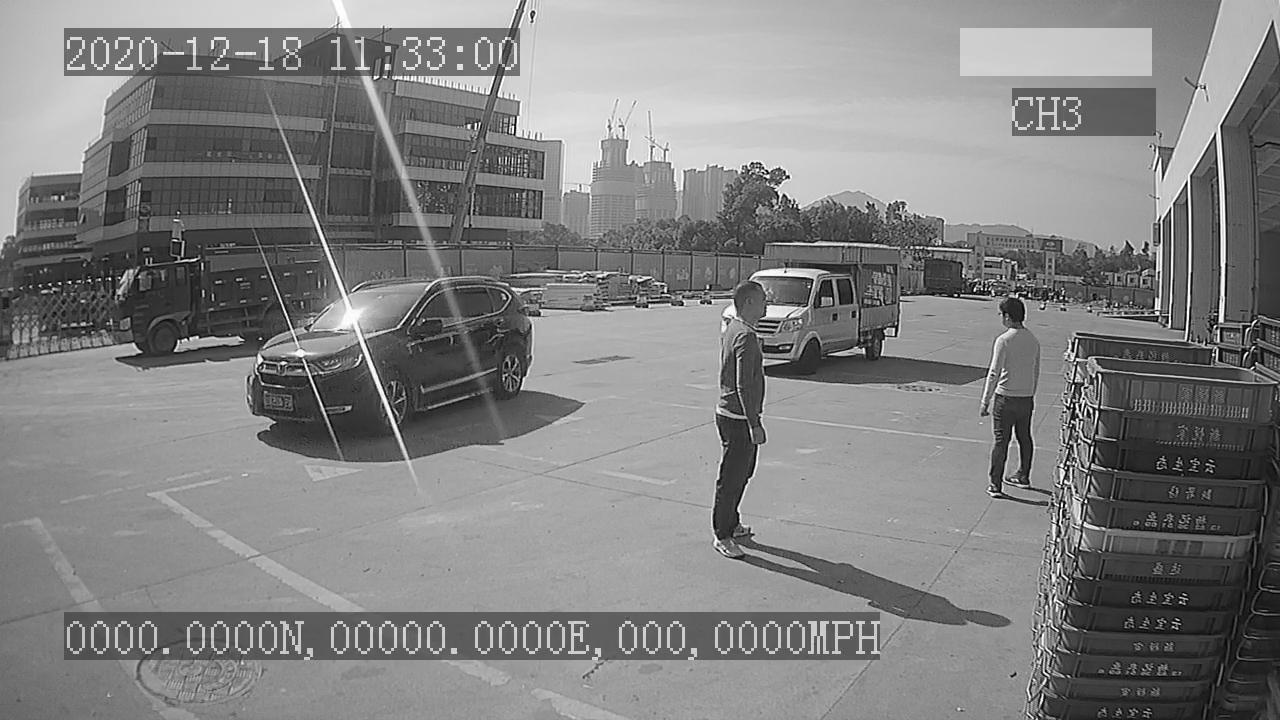person: (979, 290, 1043, 501)
